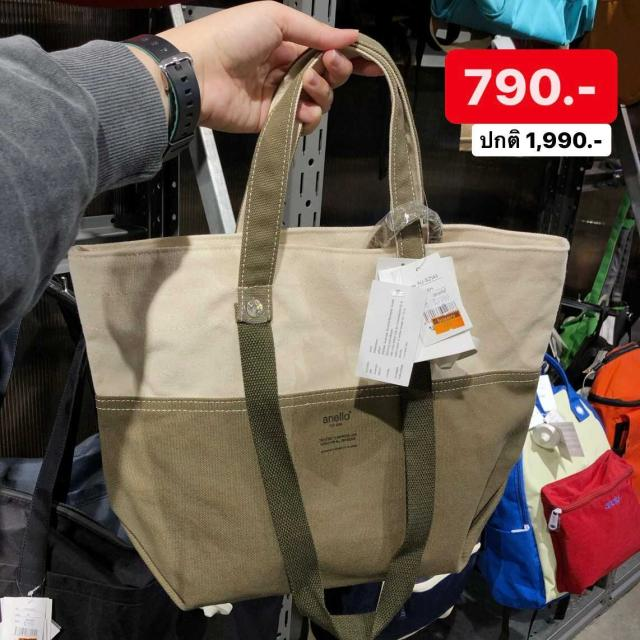Handbag: (46, 206, 568, 618)
